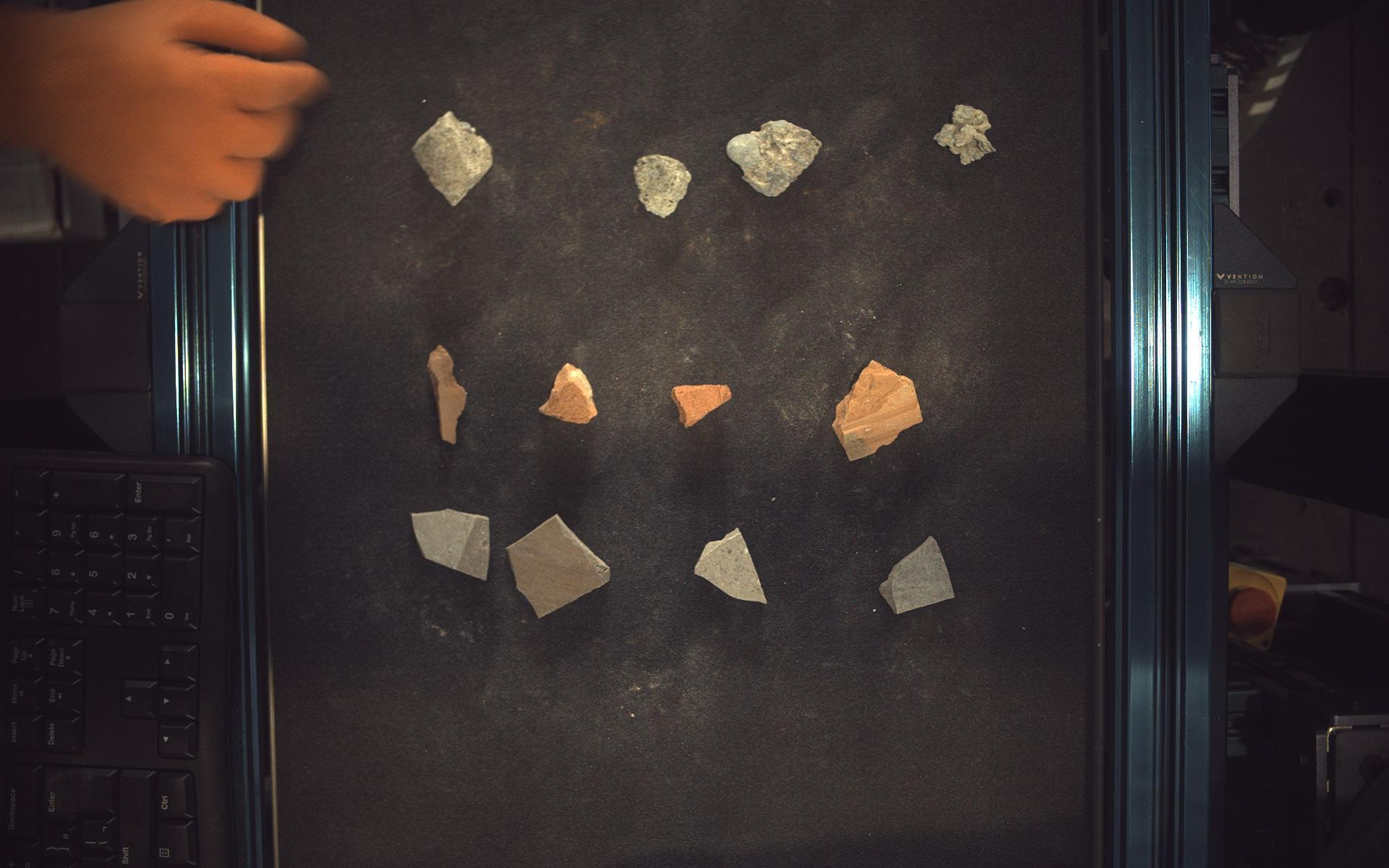brick: (834, 361, 924, 461), (428, 345, 467, 444), (540, 363, 598, 424), (673, 385, 731, 427)
concrete: (412, 111, 493, 205), (727, 119, 823, 196), (936, 103, 998, 164), (634, 153, 692, 217)
tile: (507, 515, 611, 618), (880, 537, 956, 615), (412, 509, 490, 581), (695, 529, 768, 604)
